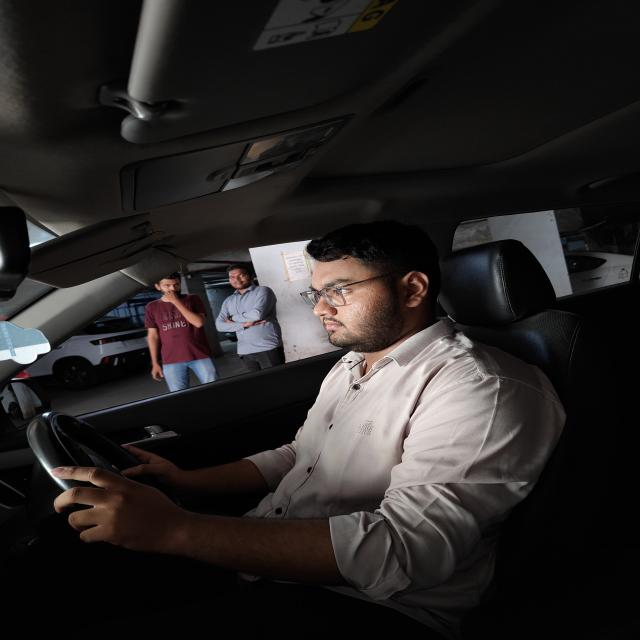no-seatbelt: (228, 311, 517, 632)
